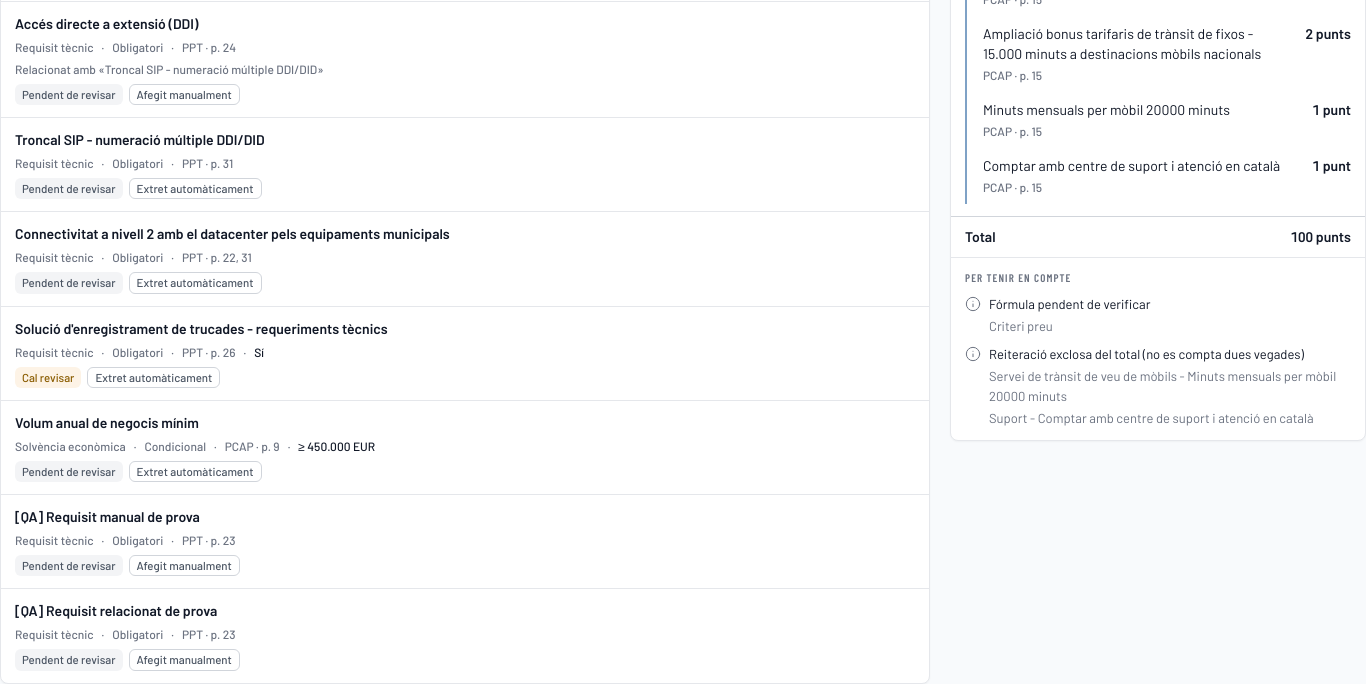
Test: Relacions entre requisits › cada tipus s'explica, la direcció es veu abans de desar i no hi ha codis
(page scrolled)
Click the button that starts with "[QA] Requisit manual de prova" at (107, 517), box [1,495,929,588]
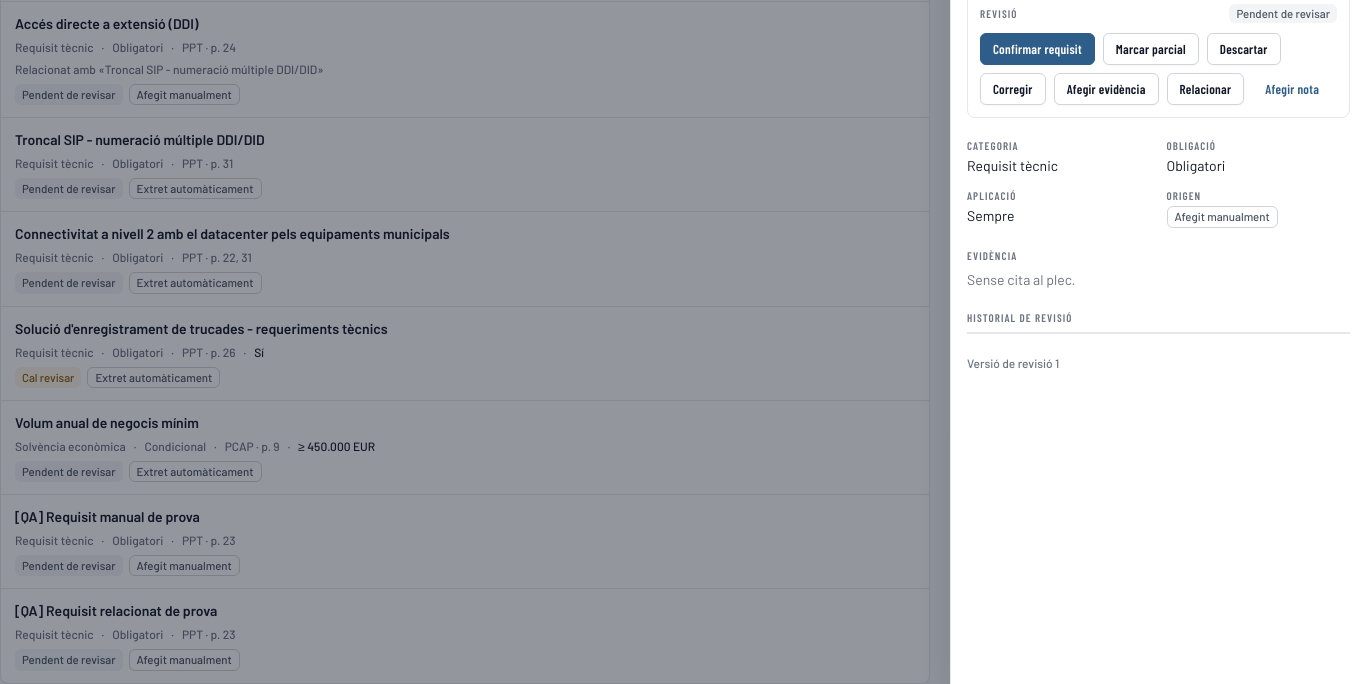
Click the button "Relacionar" at (1205, 89), box [1167,73,1244,105]
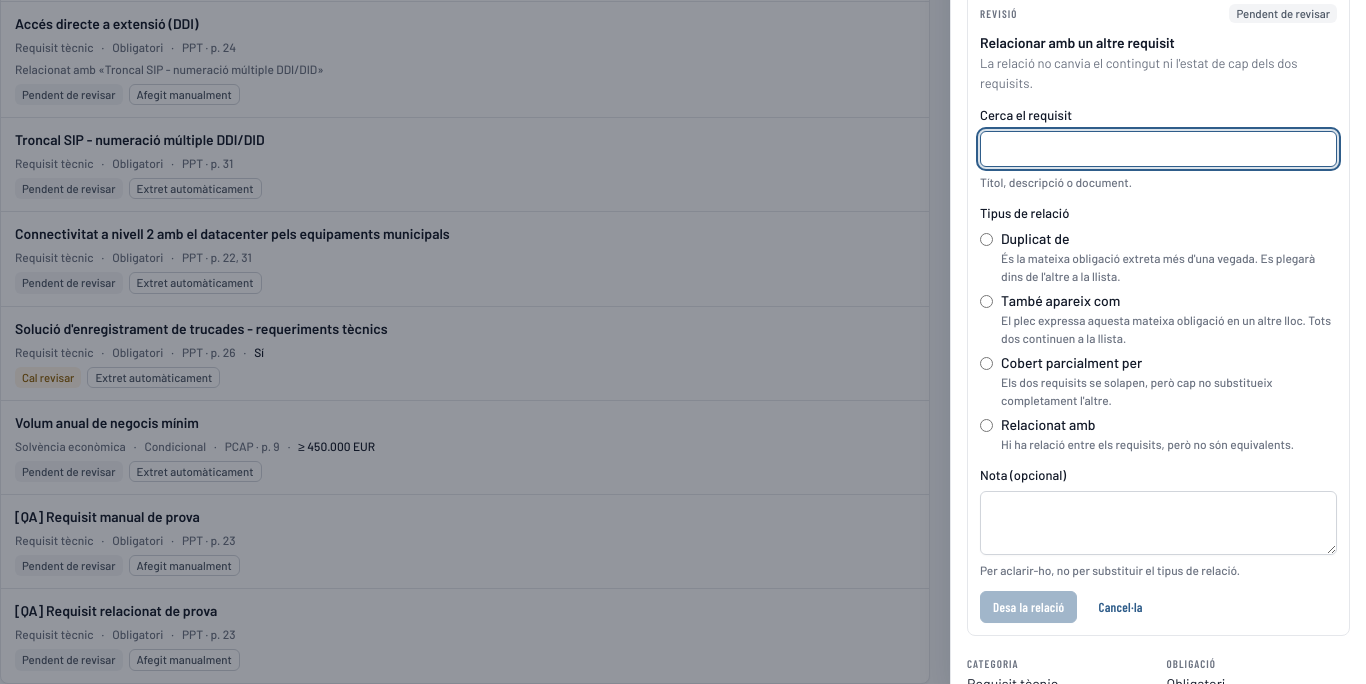
Type "relacionat" into the search field labelled "Cerca el requisit Títol, descripció o document." at (1158, 149), box [980,131,1337,167]
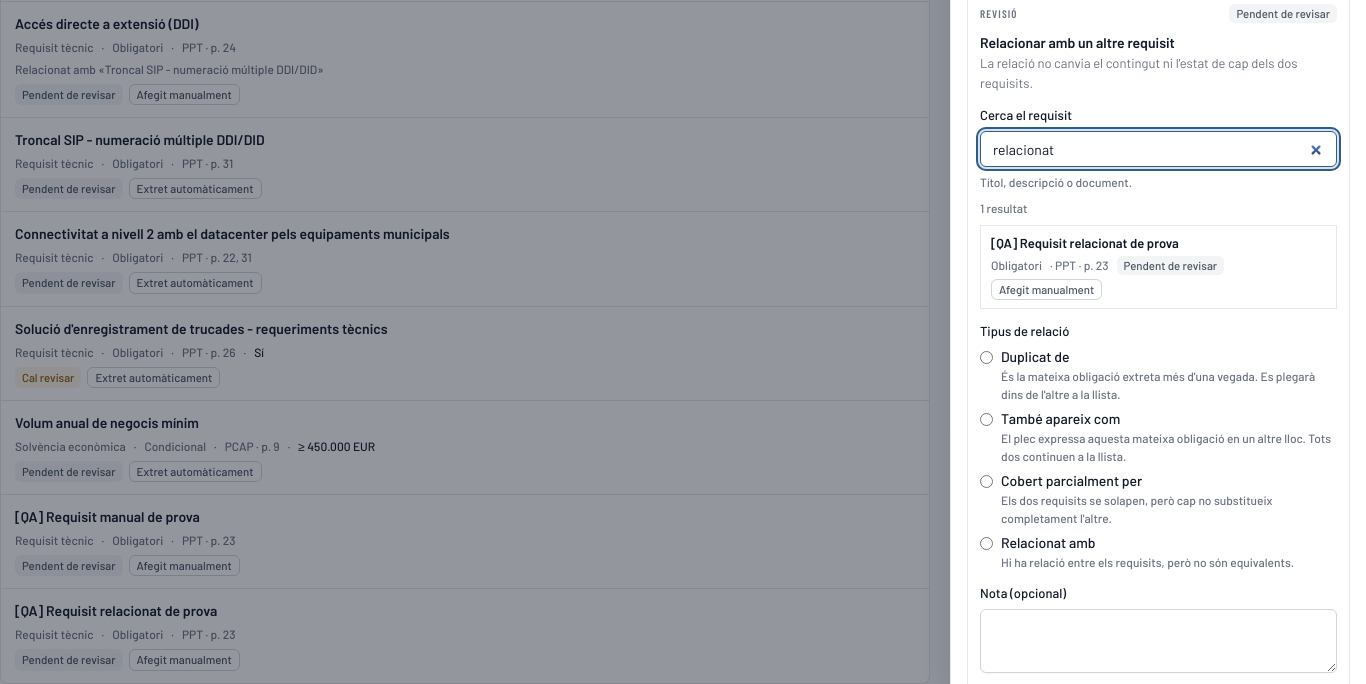
Click the button that starts with "[QA] Requisit relacionat de prova" at (1158, 267), box [981,226,1336,308]
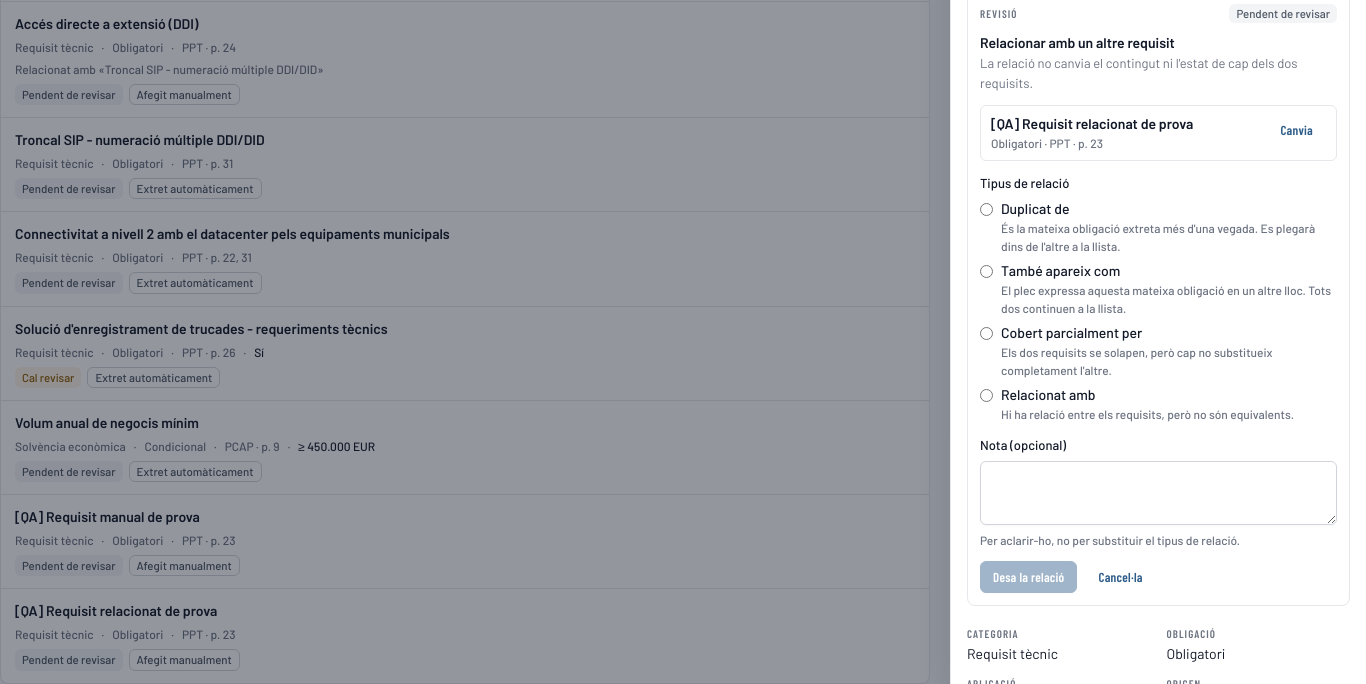
Click the radio button labelled "Cobert parcialment per" at (986, 334), box [980,327,993,340]
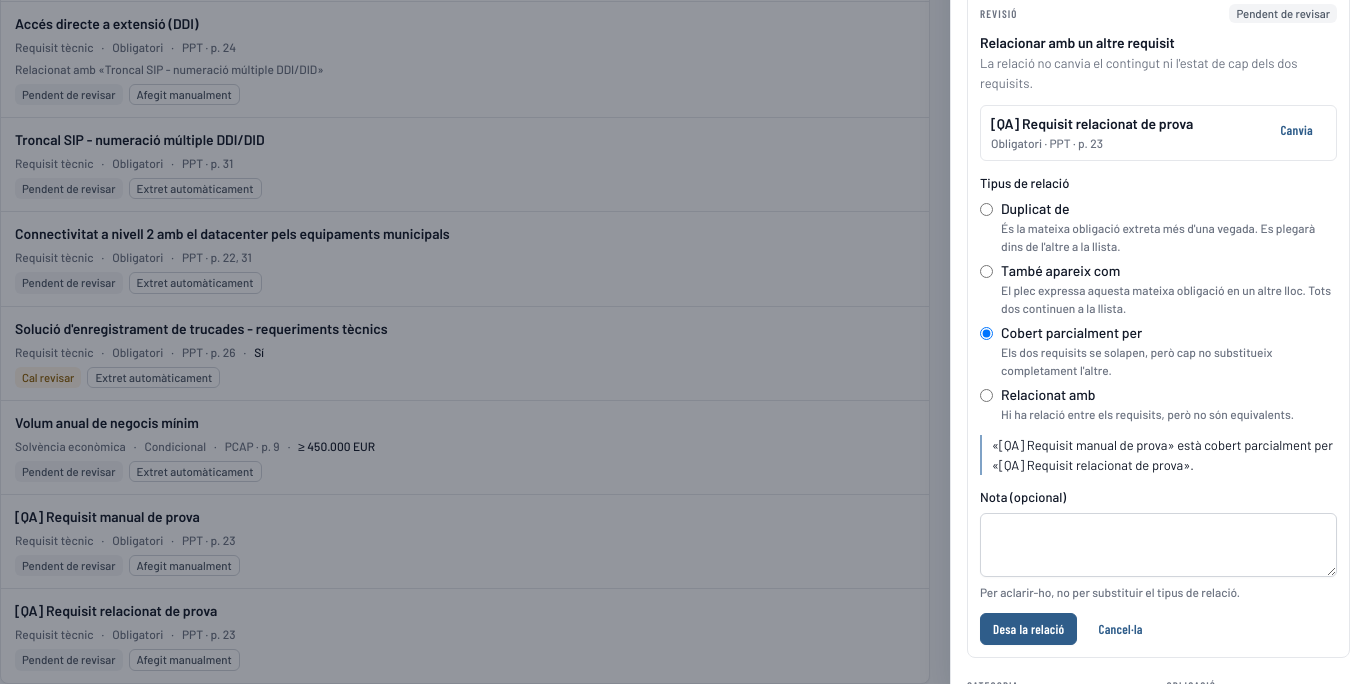
Check: the button "Desa la relació" is enabled, box [980,613,1078,645]
